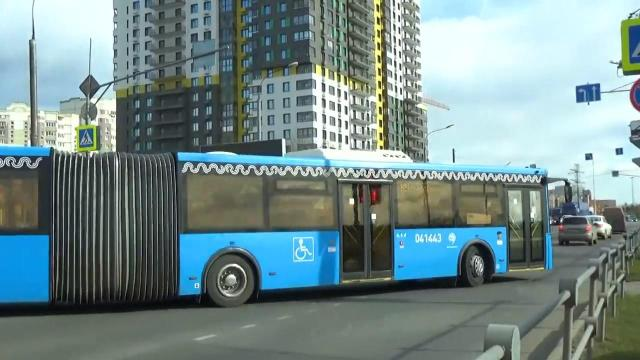bus: (0, 142, 558, 309)
car: (557, 213, 596, 245), (592, 216, 612, 239)
